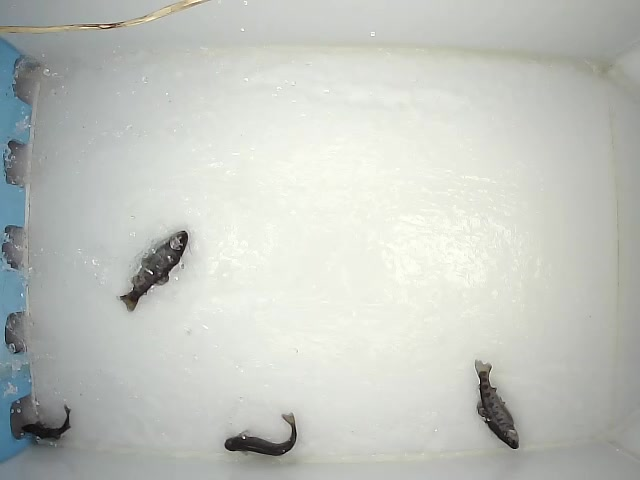fish: (115, 229, 190, 314), (473, 358, 520, 451), (223, 411, 298, 457), (20, 404, 72, 442)
